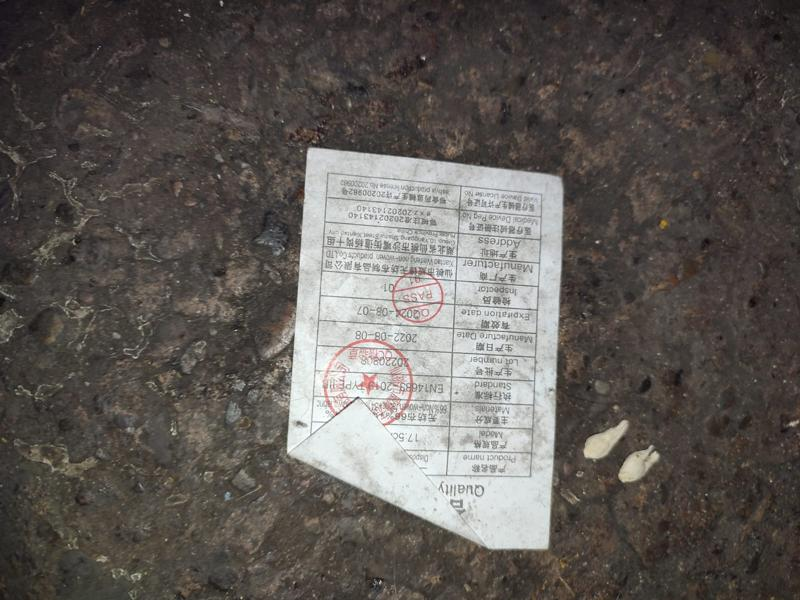papel: (287, 146, 564, 553)
